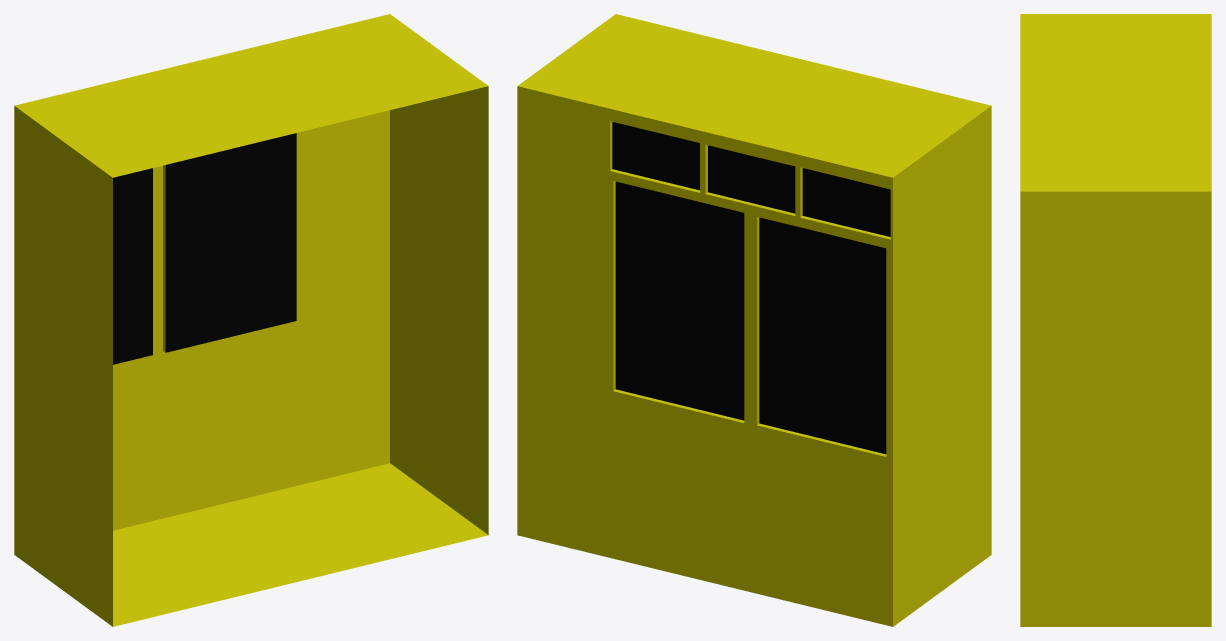
File: balkon3.fbx
3 renders of one model, left to right at view 1: azimuth 30°, elevation 25°; view 2: azimuth 150°, elevation 25°; view 3: azimuth 270°, elevation 25°, orthographic. The views are drawn at different scales.
Parts seen in each view (by area): view 1: Плоскость.023; view 2: Плоскость.023; view 3: Плоскость.023.
Part boxes in pixels (x1,y1,x2,y2): Плоскость.023: (14,14,488,626); Плоскость.023: (517,14,991,626); Плоскость.023: (1020,14,1211,626).
Bounding box in the file's own units: 85.76 × 97.95 × 38.96.
